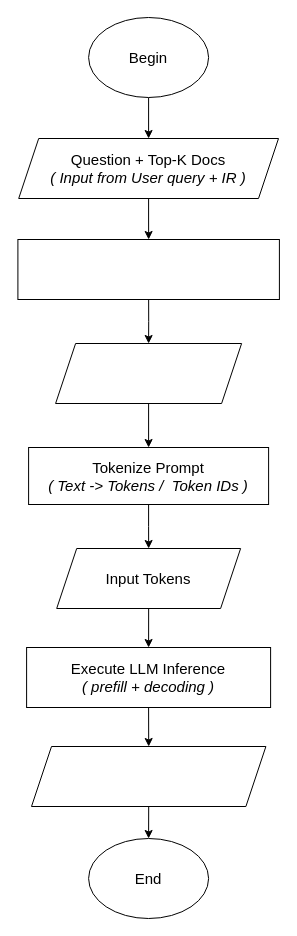
Some shapes in this 297 by 936 pixel diagram are drawn without their labels. Each missing label, with the centre of its shape:
"Construct Prompt ( instruction + context + question )" goes at point (148, 269).
"Output: Generated Answer" goes at point (148, 776).
"Structured Prompt" goes at point (148, 373).
